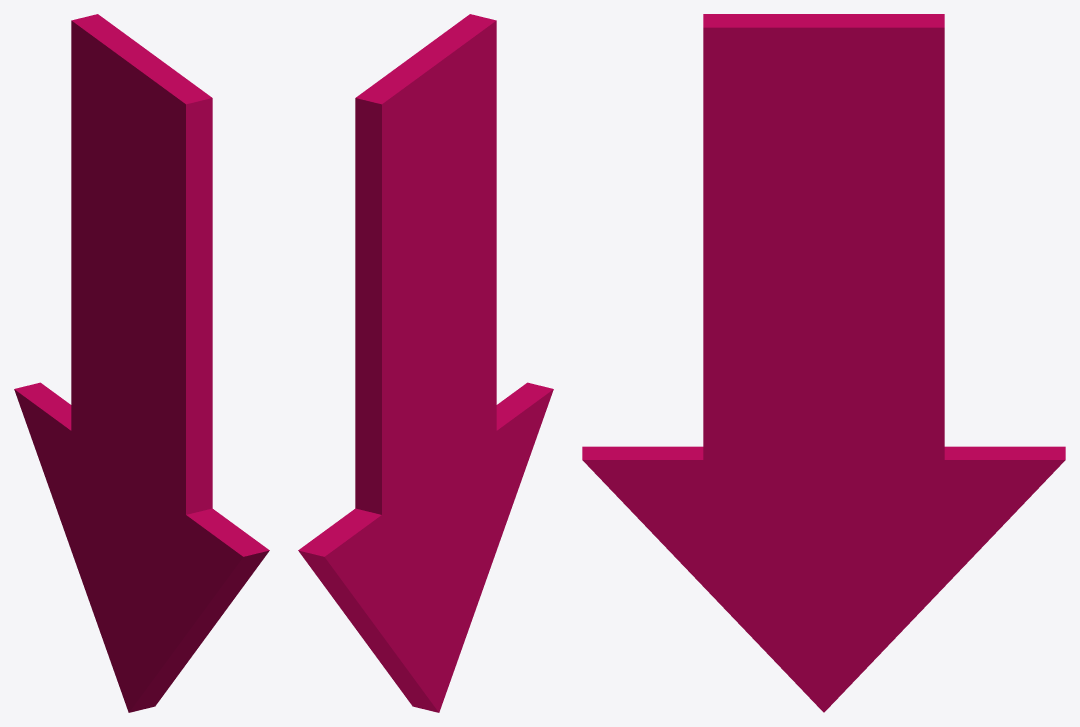
The model's file is flecha.fbx.
The picture shows the model from 3 angles, left to right: view 1: azimuth 30°, elevation 25°; view 2: azimuth 150°, elevation 25°; view 3: azimuth 270°, elevation 25°; orthographic projection. The views are drawn at different scales.
Parts seen in each view (by area): view 1: pPrism2; view 2: pPrism2; view 3: pPrism2.
Boxes of the visible parts, x1=… form: pPrism2: x1=14, y1=14, x2=269, y2=712; pPrism2: x1=298, y1=14, x2=553, y2=712; pPrism2: x1=582, y1=14, x2=1065, y2=712.
Bounding box in the file's own units: 0.2 × 4.69 × 3.
